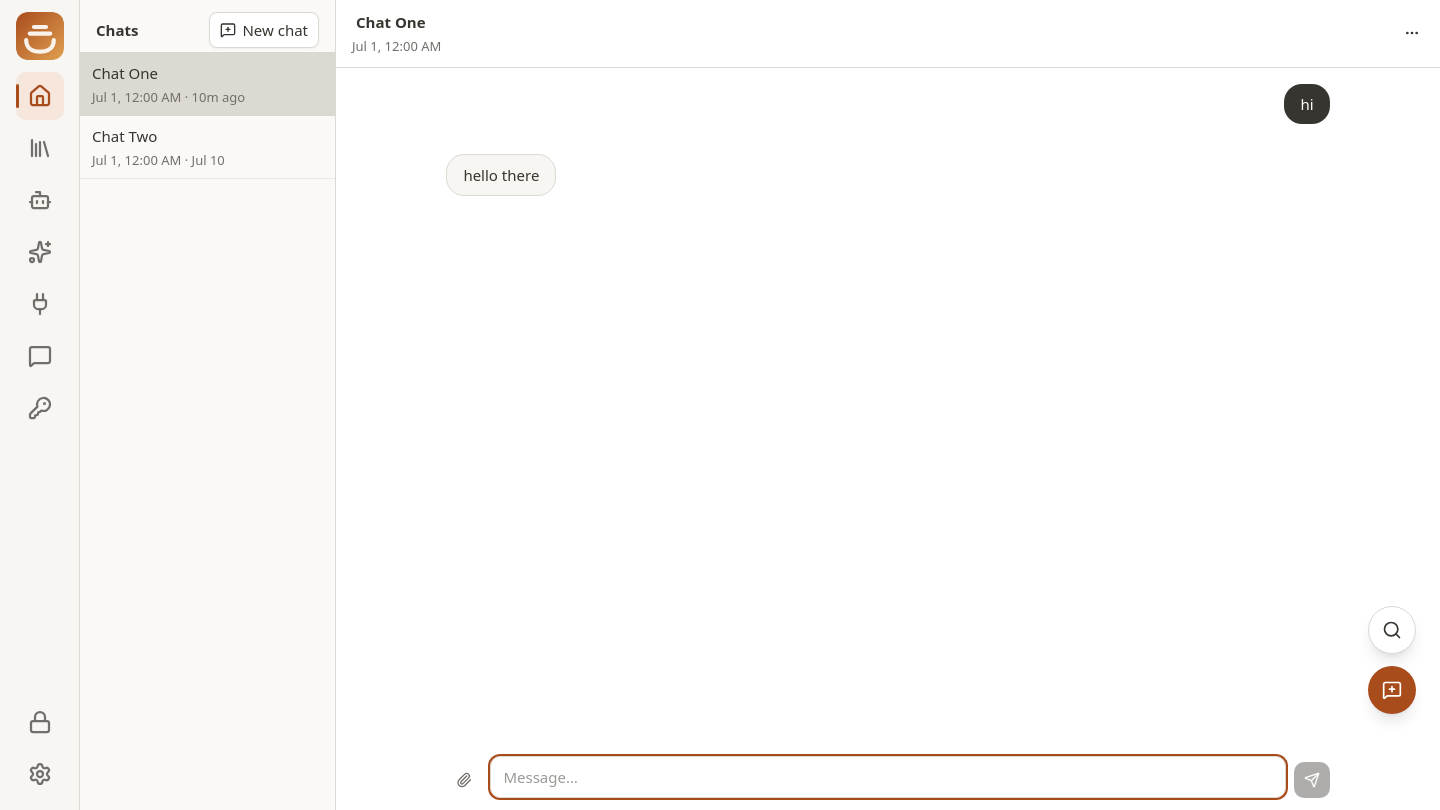
Test: editing the chat title renames the chat
Click the heading "Chat One". click: x=391, y=22
box: [356,12,426,32]
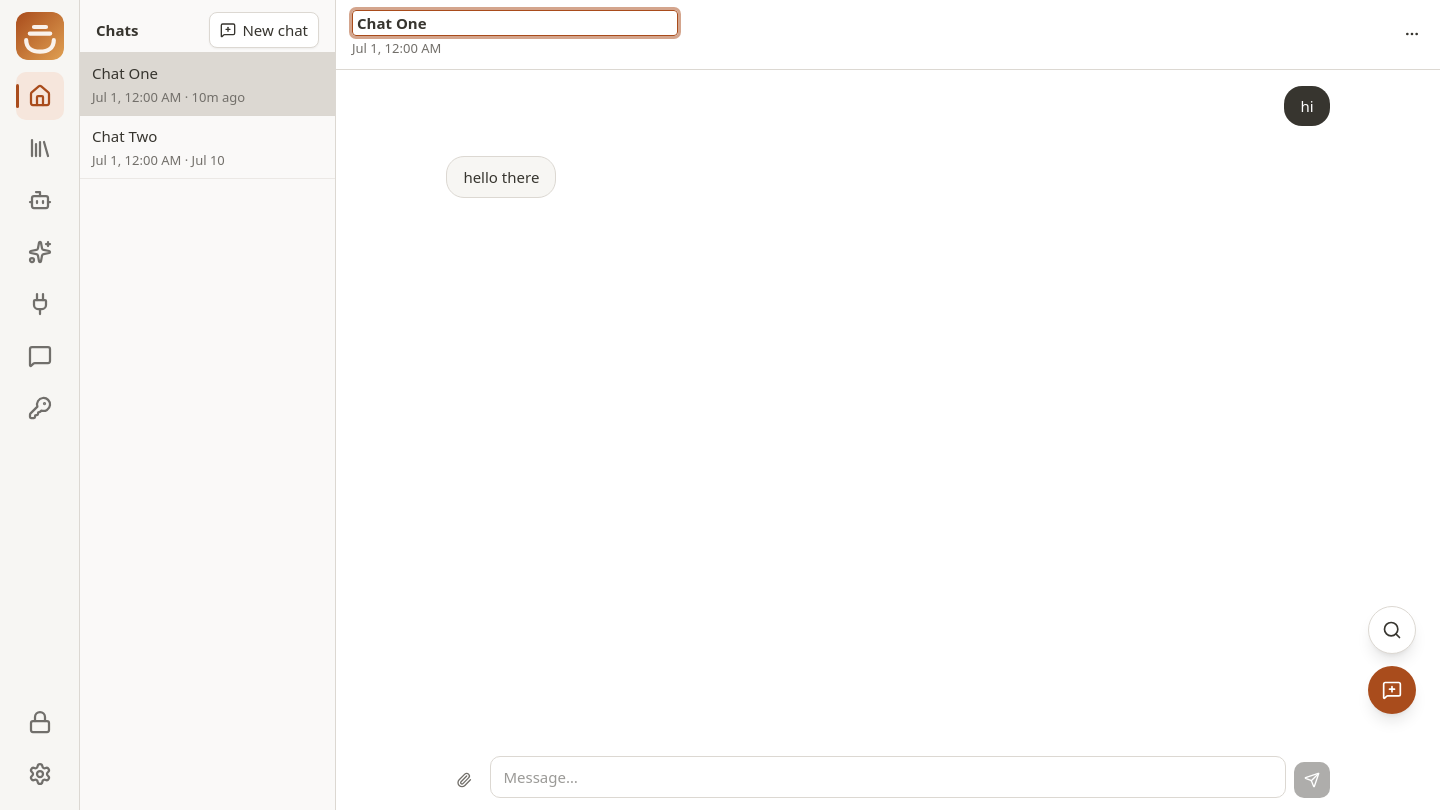
Replace the text in the field named "Chat title" with "Renamed Chat". click: x=515, y=23
box: [352,10,678,36]
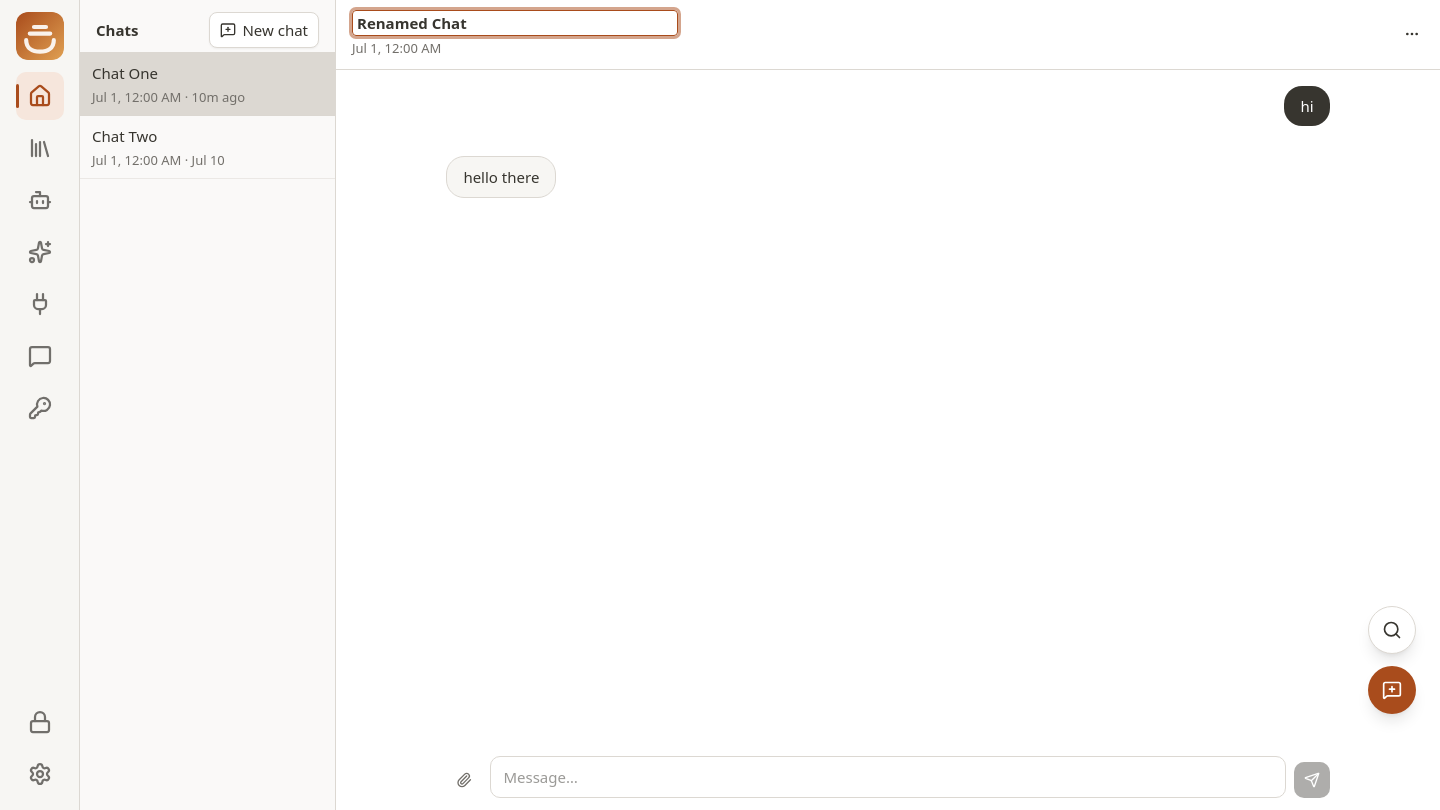
Press Enter in the field named "Chat title", box [352,10,678,36]
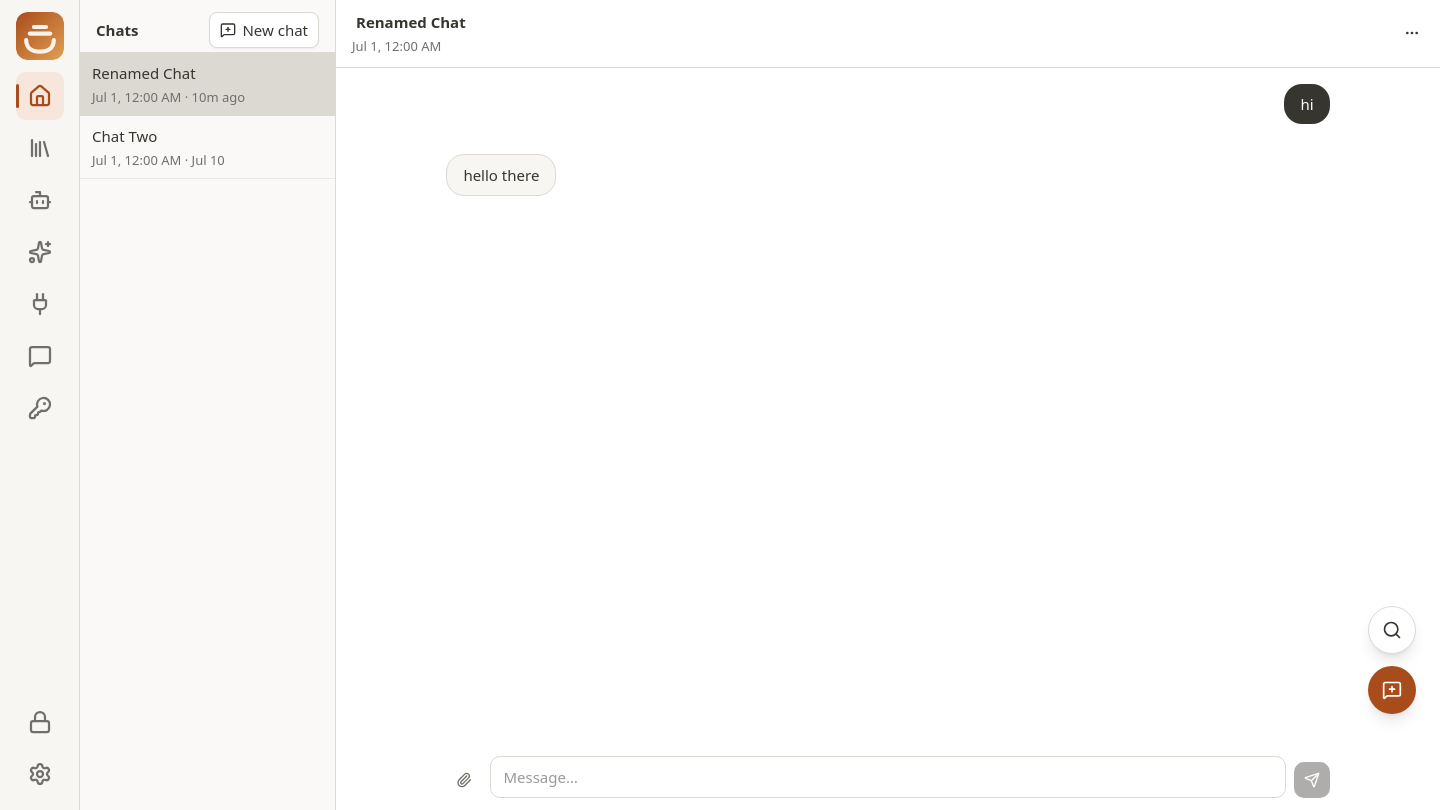
Expected: the heading "Renamed Chat" is shown, [352,10,470,34]
